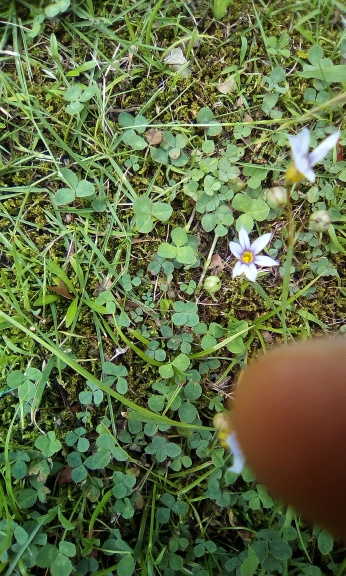4leaf: (144, 436, 183, 463), (101, 362, 129, 394), (172, 300, 200, 328), (33, 430, 62, 457)
